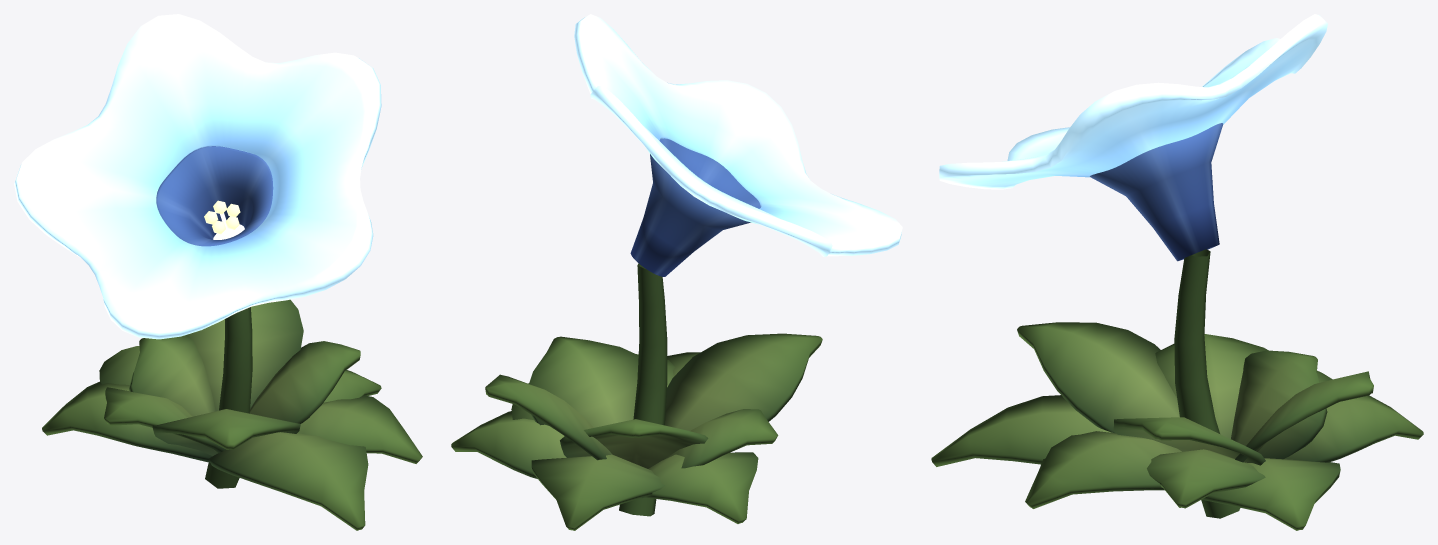
Rendered from hero_cup.glb.
3 renders of one model, left to right at view 1: azimuth 30°, elevation 25°; view 2: azimuth 150°, elevation 25°; view 3: azimuth 270°, elevation 25°, orthographic. The views are drawn at different scales.
Visible parts, largest first — view 1: hero_petal_ice, hero_leaf, hero_petal_throat, hero_stem, hero_core; view 2: hero_leaf, hero_petal_ice, hero_petal_throat, hero_stem; view 3: hero_leaf, hero_petal_ice, hero_petal_throat, hero_stem.
Part boxes in pixels (left/top/right/bottom): hero_petal_ice: left=14, top=14, right=381, bottom=339; hero_leaf: left=42, top=299, right=422, bottom=530; hero_petal_throat: left=156, top=146, right=273, bottom=246; hero_stem: left=205, top=307, right=252, bottom=488; hero_core: left=204, top=200, right=244, bottom=239; hero_leaf: left=451, top=333, right=822, bottom=530; hero_petal_ice: left=574, top=14, right=902, bottom=256; hero_petal_throat: left=630, top=138, right=760, bottom=276; hero_stem: left=619, top=263, right=667, bottom=516; hero_leaf: left=931, top=322, right=1423, bottom=530; hero_petal_ice: left=939, top=14, right=1327, bottom=189; hero_petal_throat: left=1090, top=123, right=1223, bottom=261; hero_stem: left=1174, top=249, right=1240, bottom=518.
Bounding box in the file's own units: 0.6391 × 0.7983 × 0.7275.
